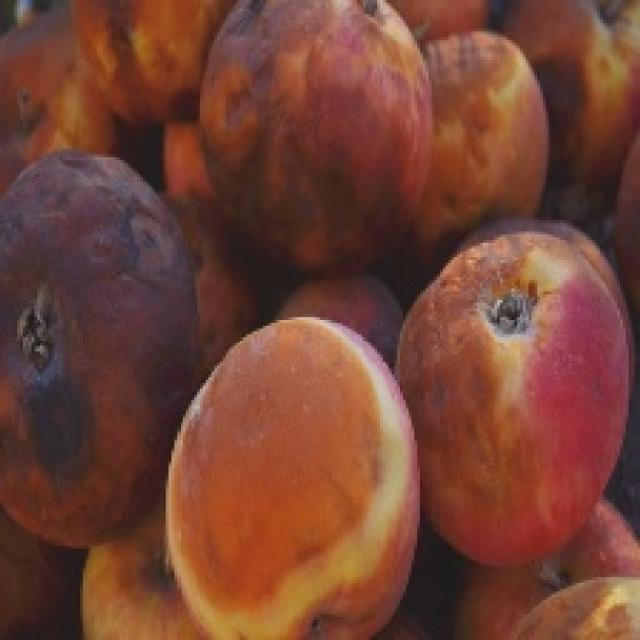rotten_apple: (176, 321, 415, 640), (409, 239, 628, 559), (0, 151, 171, 537), (202, 0, 419, 266), (423, 37, 546, 231)
